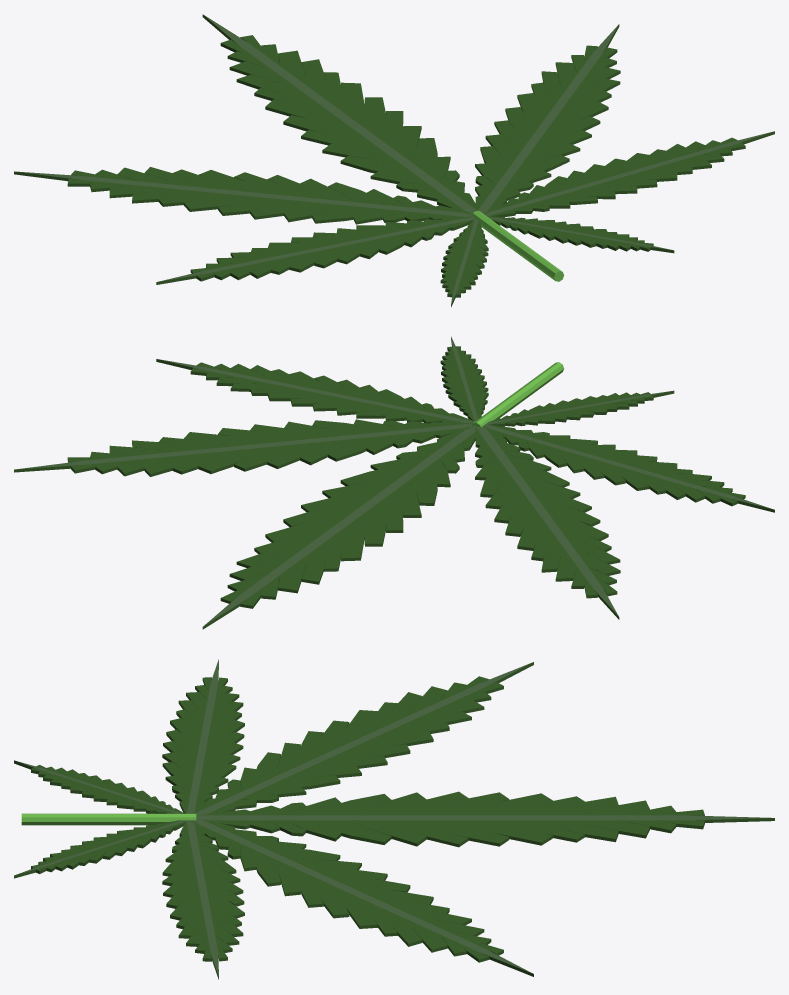
Rendered from ooba.fbx.
3 renders of one model, top to bottom at view 1: azimuth 30°, elevation 25°; view 2: azimuth 150°, elevation 25°; view 3: azimuth 270°, elevation 25°, orthographic. The views are drawn at different scales.
Parts seen in each view (by area): view 1: 立方体, 円柱; view 2: 立方体, 円柱; view 3: 立方体, 円柱.
Part boxes in pixels (bbox=[...]): 立方体: bbox=[14, 14, 774, 307]; 円柱: bbox=[472, 210, 564, 281]; 立方体: bbox=[14, 336, 774, 629]; 円柱: bbox=[472, 362, 564, 427]; 立方体: bbox=[14, 659, 774, 979]; 円柱: bbox=[21, 813, 196, 825].
Size of the model in its own units: 451 by 7.46 by 454.
